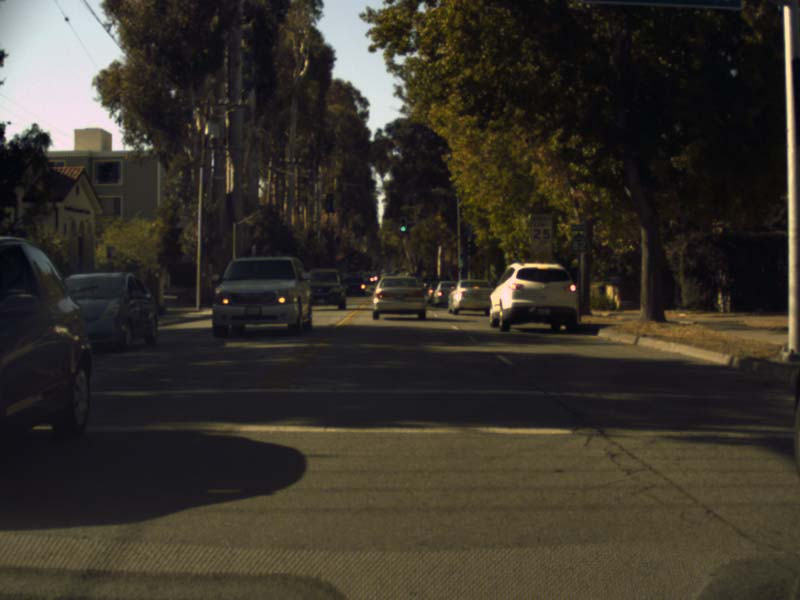Green: (400, 217, 406, 233)
